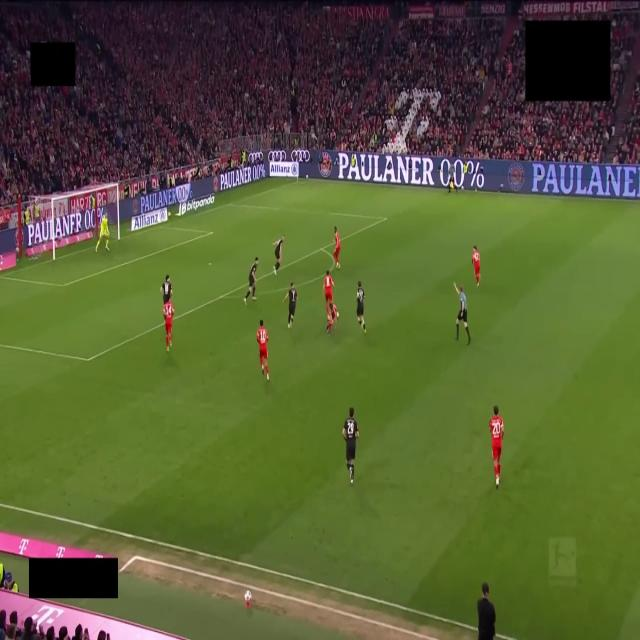ball: (337, 312, 339, 317)
player: (343, 408, 358, 485), (490, 406, 503, 488), (257, 320, 269, 381), (244, 257, 258, 303), (283, 282, 297, 327), (163, 300, 174, 351), (96, 214, 109, 252), (357, 281, 366, 333), (274, 235, 284, 274), (327, 303, 339, 335), (324, 271, 333, 311), (333, 227, 341, 269), (472, 246, 480, 286), (161, 275, 172, 303)
referee: (454, 283, 470, 344)
